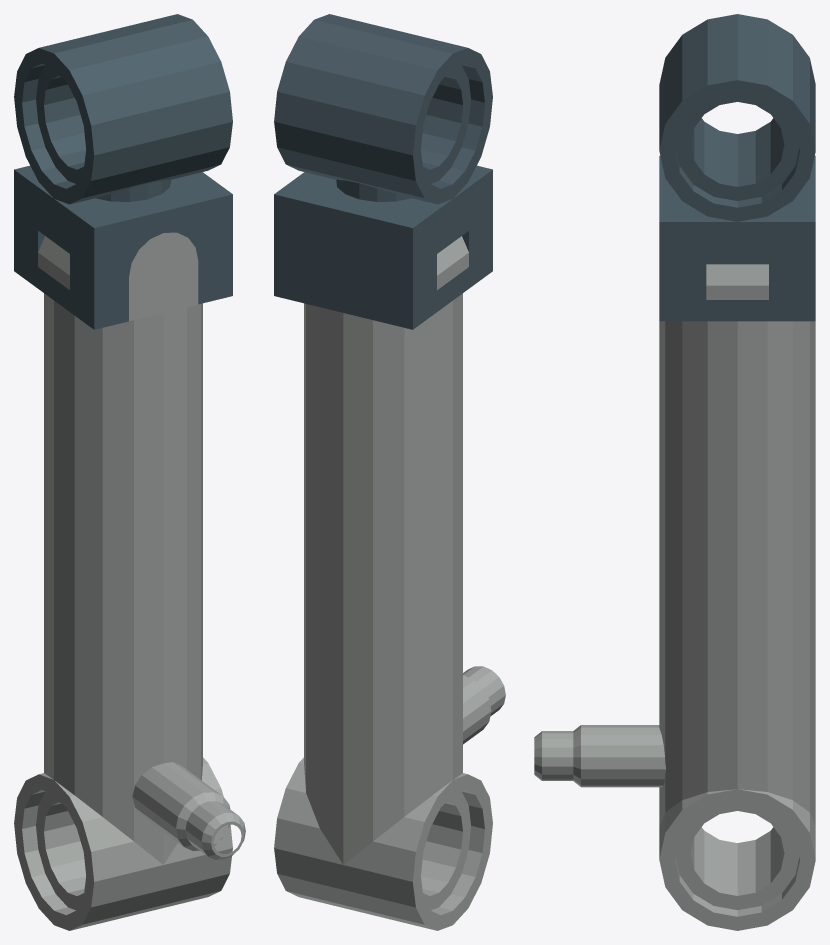
3 views of the same model, side by side, from view 1: azimuth 30°, elevation 25°; view 2: azimuth 150°, elevation 25°; view 3: azimuth 270°, elevation 25° (orthographic). The views are drawn at different scales.
Parts seen in each view (by area): view 1: world; view 2: world; view 3: world.
Boxes of the visible parts, box(x1,y1,x2,y2) form: world: box(14, 14, 245, 930); world: box(274, 14, 505, 930); world: box(534, 14, 815, 930).
Bounding box in the file's own units: 0.008 × 0.048 × 0.0144.
